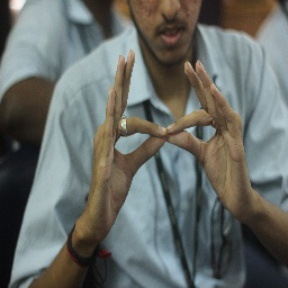B: (110, 103, 233, 181)
